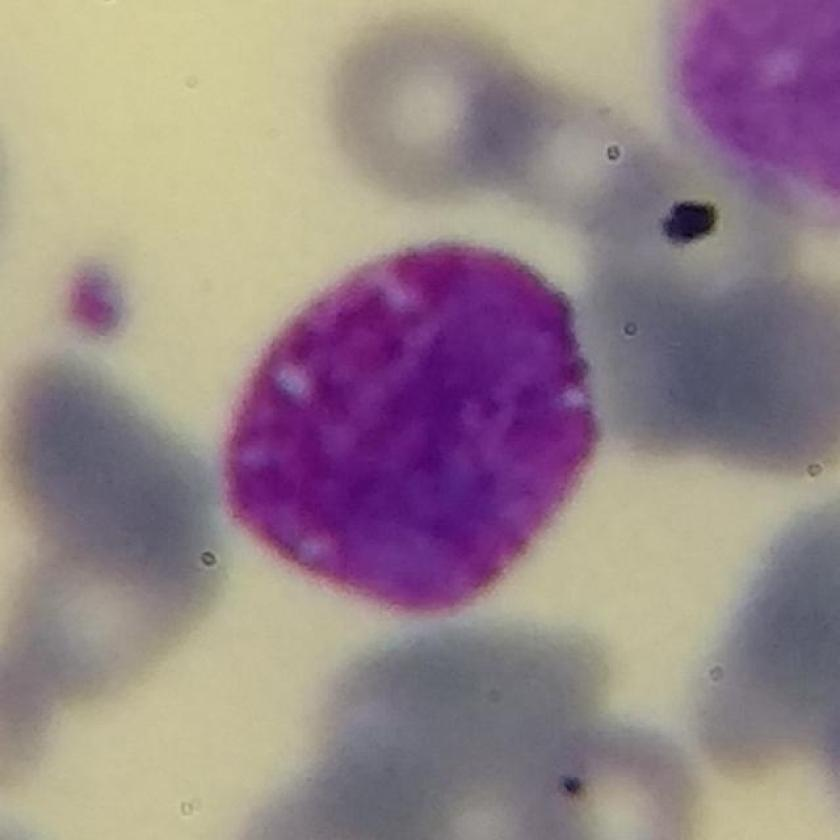basophil: (223, 220, 614, 627)
